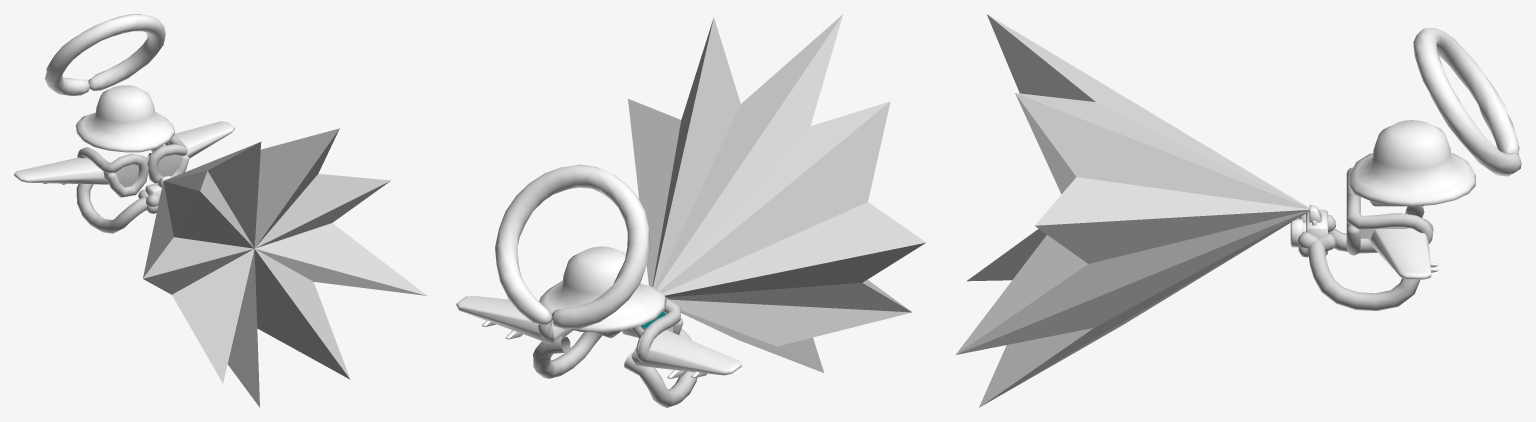
Rendered from KM_Glasses.FBX.
3 views of the same model, side by side, from view 1: azimuth 30°, elevation 25°; view 2: azimuth 150°, elevation 25°; view 3: azimuth 270°, elevation 25° (orthographic). The views are drawn at different scales.
Parts seen in each view (by area): view 1: Flash, Bob, Aureole, Wings, Glasses, Arms, Glasses_Glass; view 2: Flash, Aureole, Bob, Wings, Arms, Glasses; view 3: Flash, Bob, Aureole, Arms, Wings, Glasses, Camera.
Boxes of the visible parts, bbox=[...] form: Flash: bbox=[143, 128, 427, 407]; Bob: bbox=[75, 85, 174, 152]; Aureole: bbox=[44, 14, 165, 96]; Wings: bbox=[14, 121, 234, 184]; Glasses: bbox=[77, 135, 189, 197]; Arms: bbox=[76, 153, 159, 233]; Glasses_Glass: bbox=[115, 154, 181, 187]; Flash: bbox=[628, 14, 926, 372]; Aureole: bbox=[495, 164, 650, 329]; Bob: bbox=[539, 246, 666, 332]; Wings: bbox=[456, 296, 741, 378]; Arms: bbox=[533, 328, 697, 407]; Glasses: bbox=[538, 298, 683, 362]; Flash: bbox=[955, 14, 1309, 407]; Bob: bbox=[1349, 120, 1475, 206]; Aureole: bbox=[1413, 28, 1521, 176]; Arms: bbox=[1297, 206, 1424, 310]; Wings: bbox=[1369, 200, 1438, 279]; Glasses: bbox=[1346, 167, 1433, 255]; Camera: bbox=[1290, 205, 1327, 255].
Bounding box in the file's own units: 364 × 387 × 550.
1 material, 1 textured.
